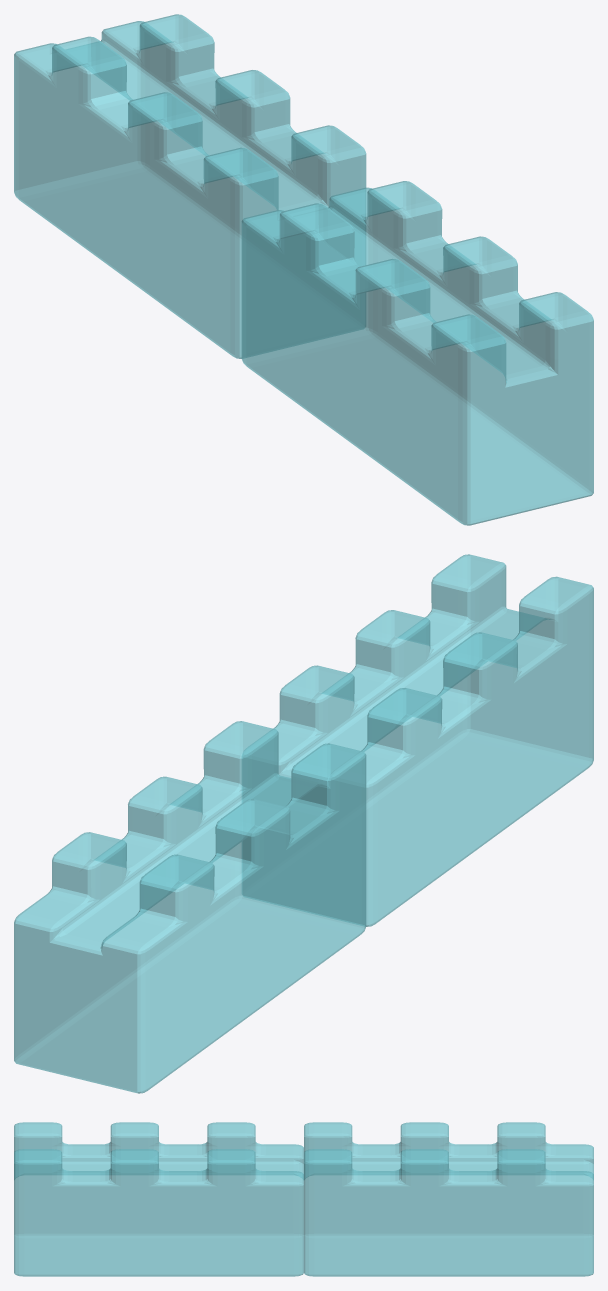
File: block luar ice 6.fbx
3 views of the same model, one above another, from view 1: azimuth 30°, elevation 25°; view 2: azimuth 150°, elevation 25°; view 3: azimuth 270°, elevation 25° (orthographic). The views are drawn at different scales.
Visible parts, largest first — view 1: Cube.009; view 2: Cube.009; view 3: Cube.009.
Boxes of the visible parts, x1,y1,x2,y2 form: Cube.009: (14,14,593,525); Cube.009: (14,554,593,1093); Cube.009: (14,1122,593,1276).
Bounding box in the file's own units: 400 × 531 × 2400.
